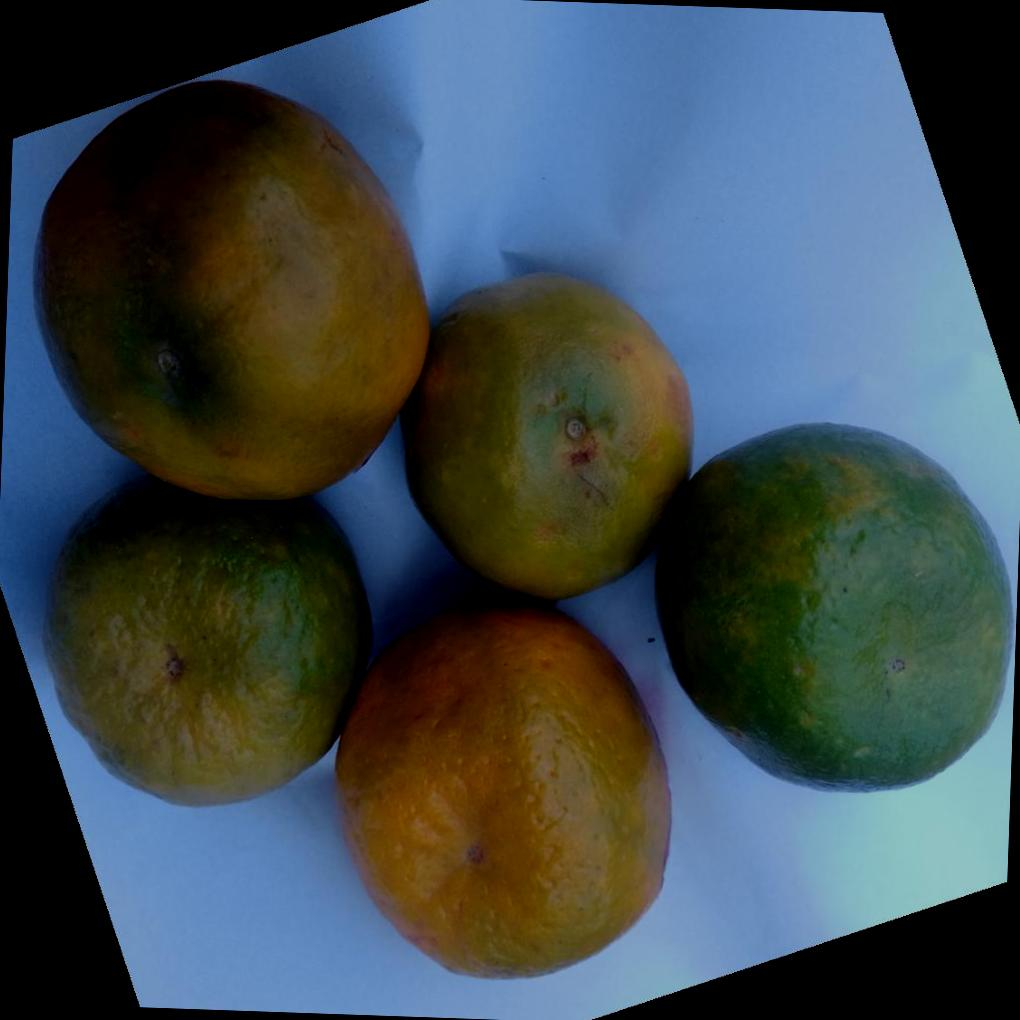FreshGuava: (32, 80, 1016, 983)
